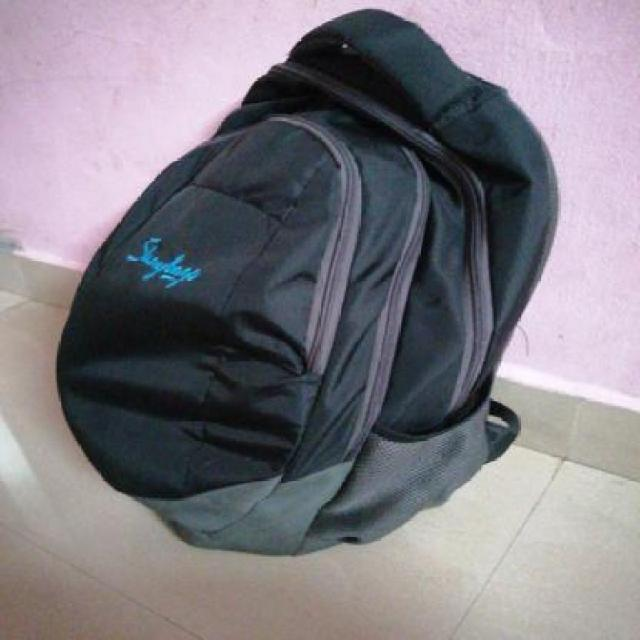backpack: (49, 5, 566, 563)
